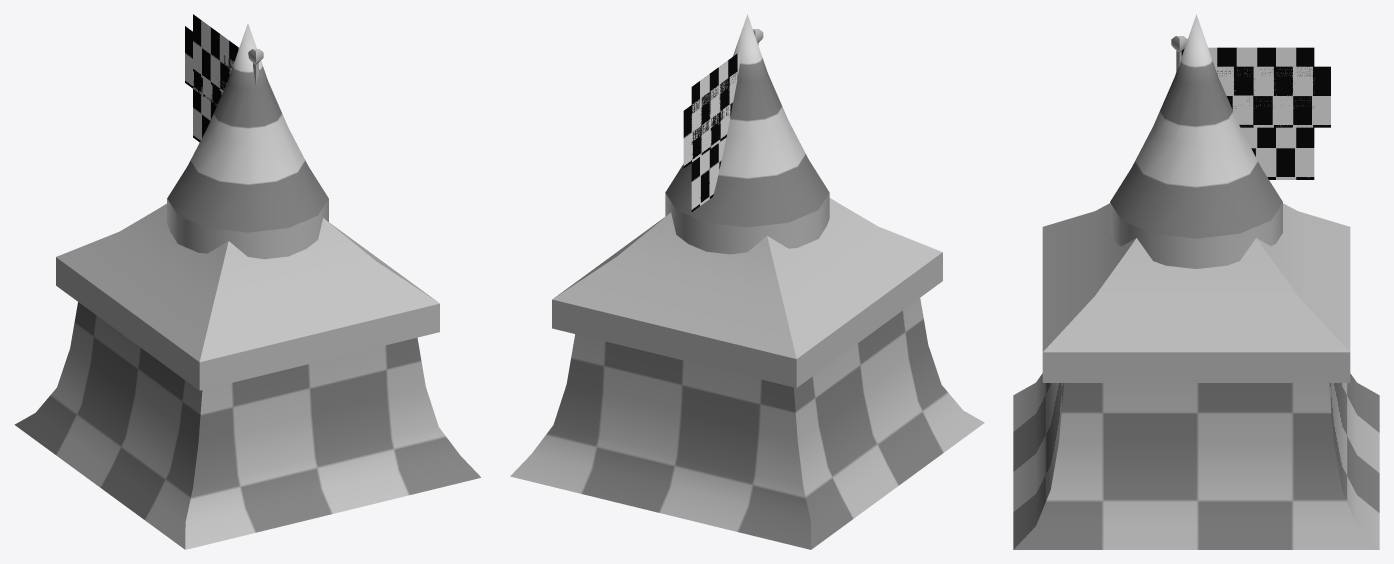
The model's file is wtwtent.dae.
The picture shows the model from 3 angles, left to right: view 1: azimuth 30°, elevation 25°; view 2: azimuth 150°, elevation 25°; view 3: azimuth 270°, elevation 25°; orthographic projection. The views are drawn at different scales.
Parts seen in each view (by area): view 1: Top004, Object005, Object009, Object006, Object010, Object012, Object007, Object; view 2: Top004, Object005, Object009, Object006, Object010, Object007, Object012, Object; view 3: Top004, Object005, Object009, Object006, Object007, Object010, Object, Object012.
Part boxes in pixels (x1,y1,x2,y2): Top004: (14,302,480,549); Object005: (56,203,439,362); Object009: (167,23,328,232); Object006: (56,257,439,390); Object010: (167,199,328,259); Object012: (193,14,238,92); Object007: (185,26,234,105); Object: (193,81,219,142); Top004: (510,298,984,549); Object005: (552,198,942,358); Object009: (665,14,829,227); Object006: (552,252,942,387); Object010: (665,193,829,254); Object007: (683,71,738,168); Object012: (691,50,741,144); Object: (691,137,726,211); Top004: (1013,373,1379,549); Object005: (1042,203,1350,352); Object009: (1110,14,1282,238); Object006: (1042,352,1350,382); Object007: (1215,66,1330,127); Object010: (1110,202,1282,268); Object: (1241,122,1314,179); Object012: (1181,47,1314,108).
Size of the model in its own units: 54.4 by 75.21 by 54.4.
